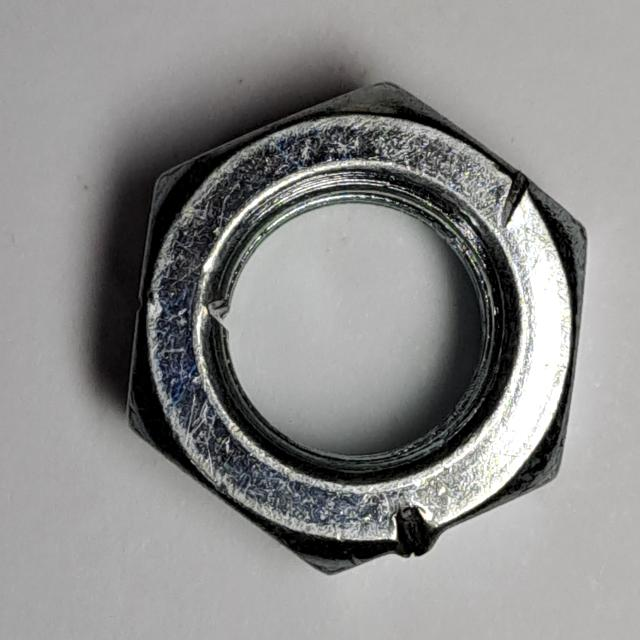Scratches: (111, 72, 600, 587)
